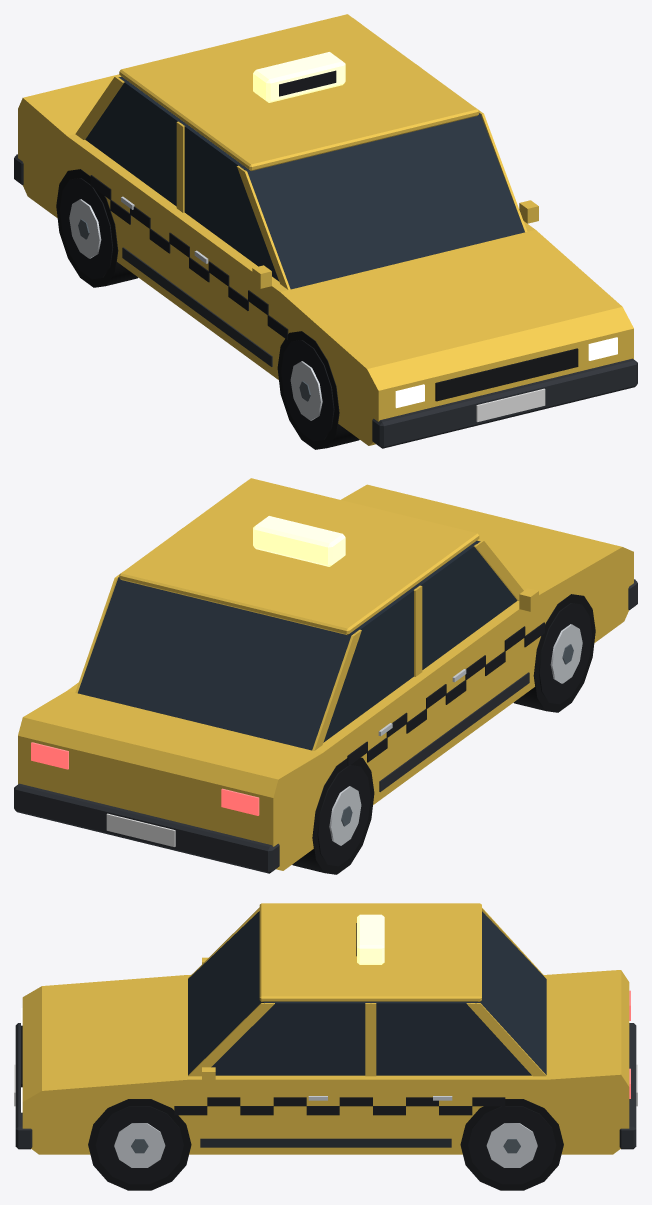
File: taxi.glb
3 views of the same model, one above another, from view 1: azimuth 30°, elevation 25°; view 2: azimuth 150°, elevation 25°; view 3: azimuth 270°, elevation 25° (orthographic). The views are drawn at different scales.
Visible parts, largest first — view 1: taxi; view 2: taxi; view 3: taxi.
Boxes of the visible parts, x1,y1,x2,y2 form: taxi: (14, 14, 637, 449); taxi: (14, 478, 637, 874); taxi: (14, 903, 637, 1190).
Size of the model in its own units: 1.96 by 1.67 by 4.52.
